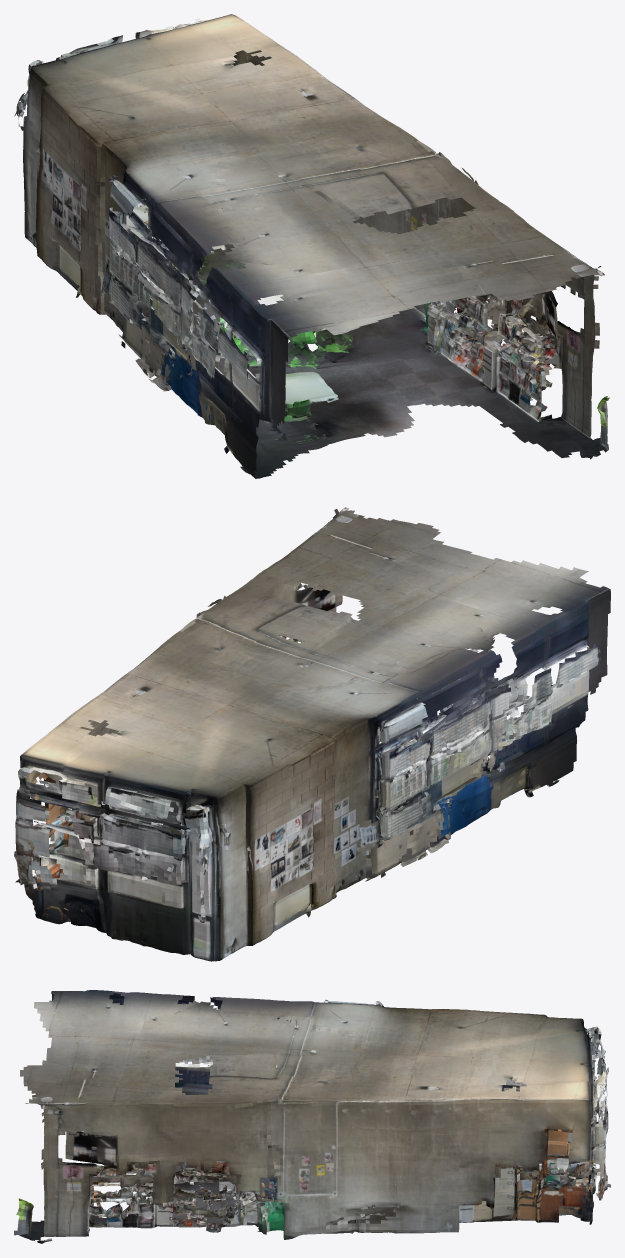
3 renders of one model, top to bottom at view 1: azimuth 30°, elevation 25°; view 2: azimuth 150°, elevation 25°; view 3: azimuth 270°, elevation 25°, orthographic. The views are drawn at different scales.
Parts seen in each view (by area): view 1: 2_m214_1-IM; view 2: 2_m214_1-IM; view 3: 2_m214_1-IM.
Boxes of the visible parts, <box> form: 2_m214_1-IM: <box>14,14,609,478</box>; 2_m214_1-IM: <box>14,507,610,961</box>; 2_m214_1-IM: <box>14,990,610,1243</box>.
Size of the model in its own units: 618 by 341 by 1267.
1 material, 1 textured.
